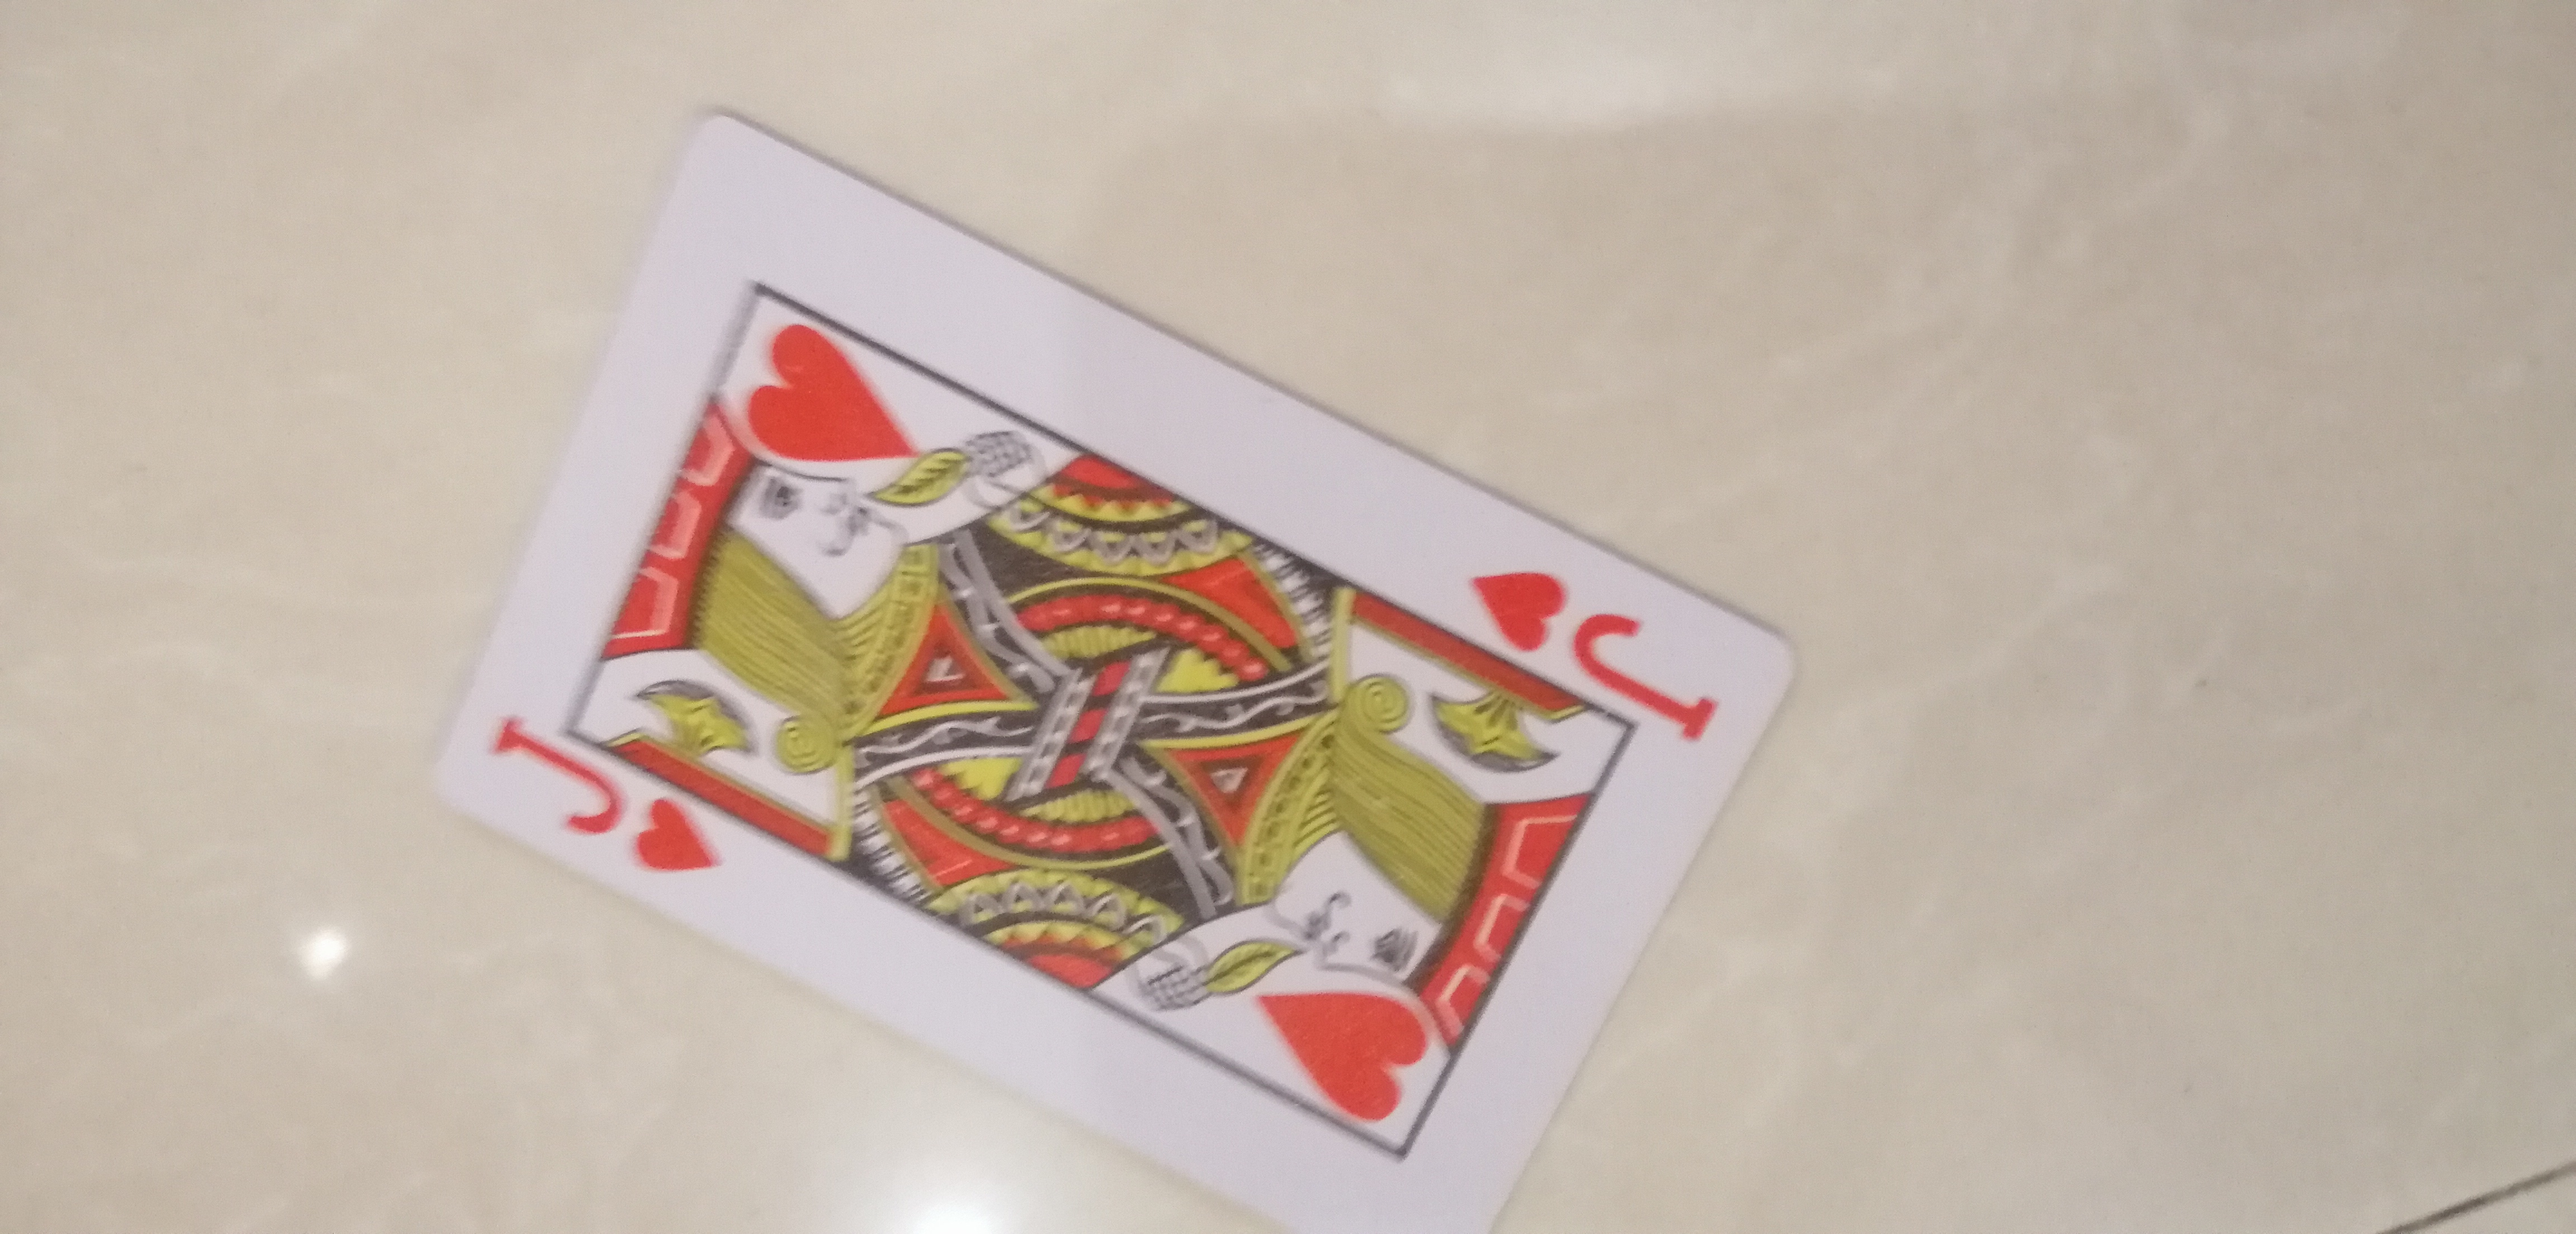jack: (442, 112, 1814, 1195)
